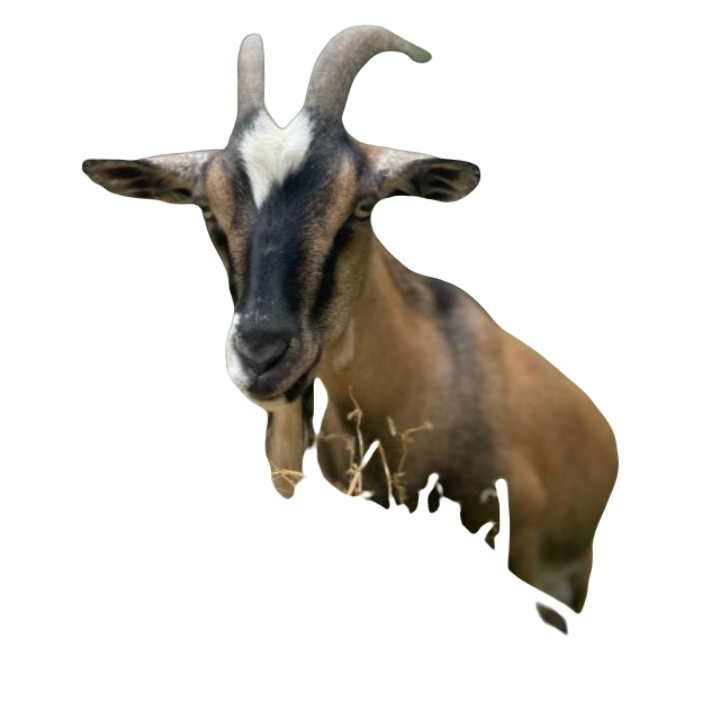Goat: (80, 24, 620, 638)
